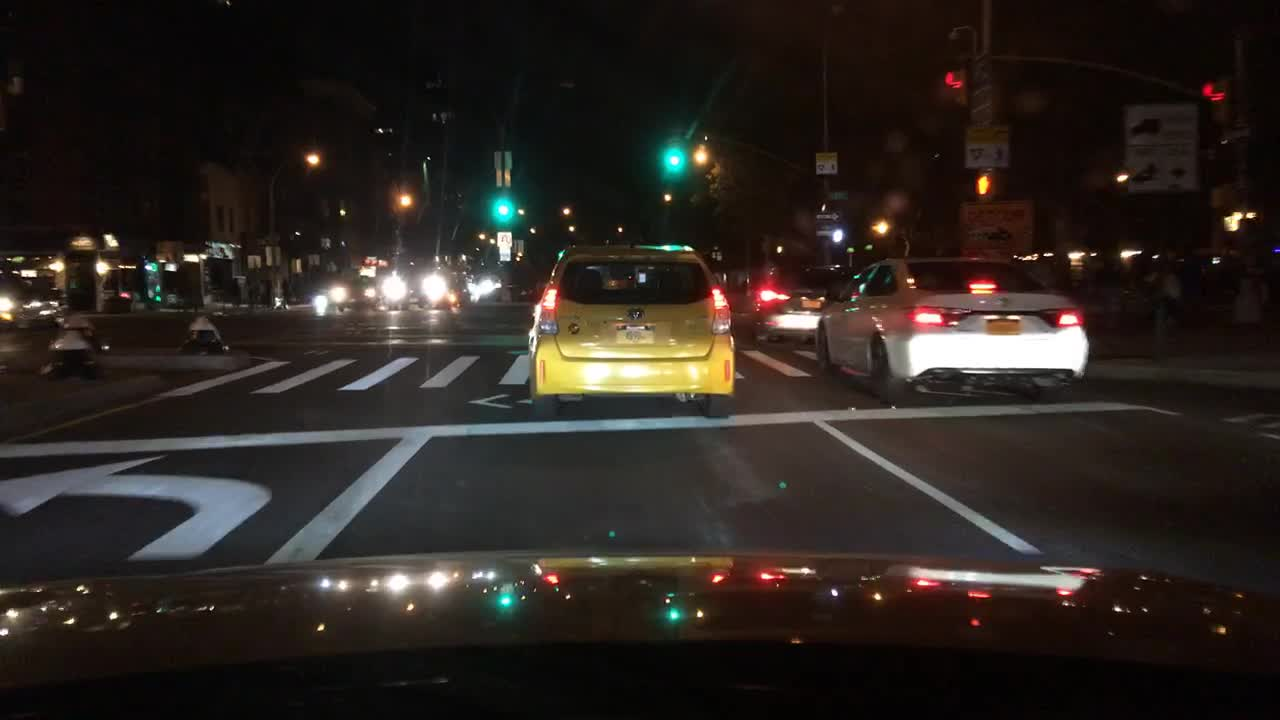car: (816, 253, 1092, 399), (526, 238, 733, 418), (745, 256, 854, 347), (0, 270, 65, 335), (384, 260, 458, 313), (328, 265, 383, 310), (466, 269, 503, 299)
person: (228, 274, 243, 309), (279, 275, 294, 305), (264, 280, 273, 306)
traffic light: (945, 63, 973, 112), (1203, 77, 1231, 120), (664, 134, 681, 172), (493, 190, 510, 221), (977, 175, 996, 197), (143, 256, 162, 273), (831, 227, 847, 243)
traffic sign: (1128, 106, 1200, 193), (963, 197, 1034, 253), (962, 124, 1011, 169), (490, 148, 510, 184), (813, 150, 836, 175), (500, 233, 513, 260), (827, 189, 845, 203), (248, 253, 262, 270), (813, 212, 839, 221), (816, 229, 831, 238)
